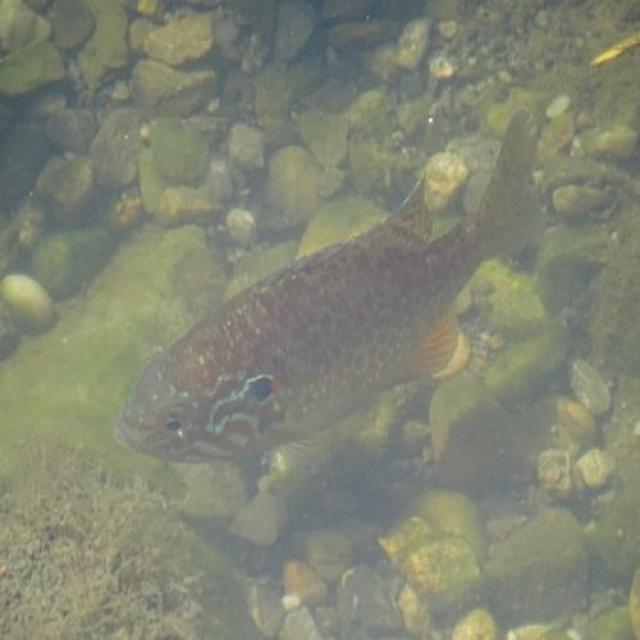Gunes Levregi: (108, 104, 553, 465)
